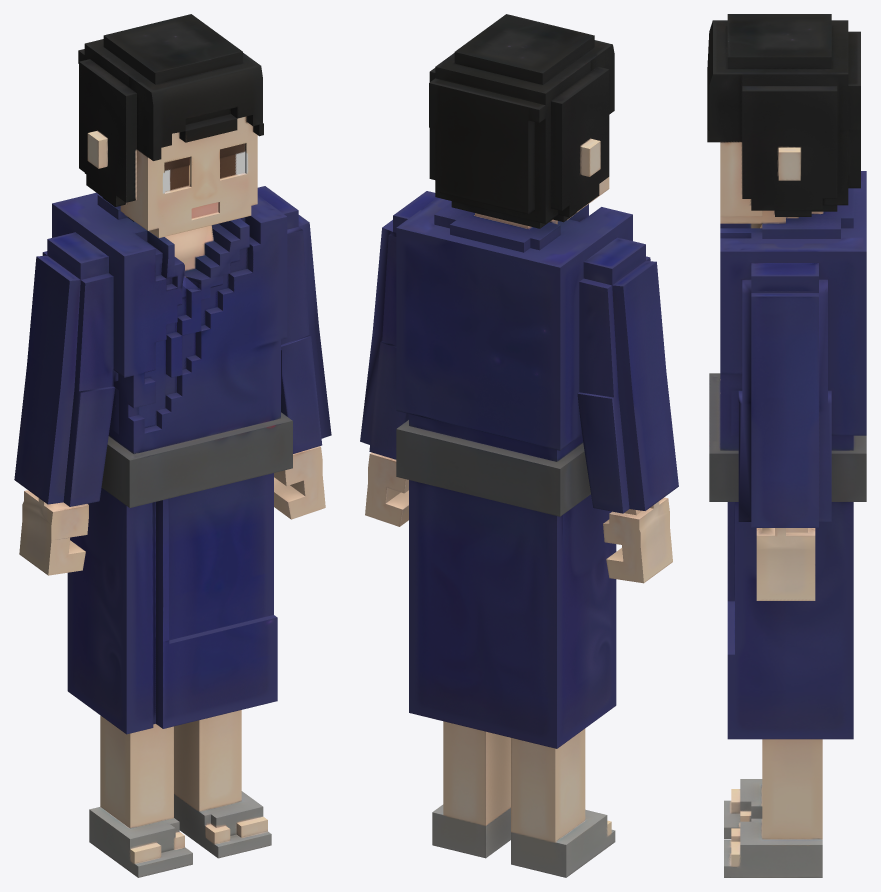
The model's file is hombre.obj.
The picture shows the model from 3 angles, left to right: view 1: azimuth 30°, elevation 25°; view 2: azimuth 150°, elevation 25°; view 3: azimuth 270°, elevation 25°; orthographic projection.
Parts seen in each view (by area): view 1: model; view 2: model; view 3: model.
Boxes of the visible parts, x1=… form: model: x1=14, y1=14, x2=331, y2=877; model: x1=360, y1=14, x2=678, y2=877; model: x1=707, y1=14, x2=866, y2=877.
Bounding box in the file's own units: 0.7057 × 1.9 × 0.3392.
1 material, 1 textured.
